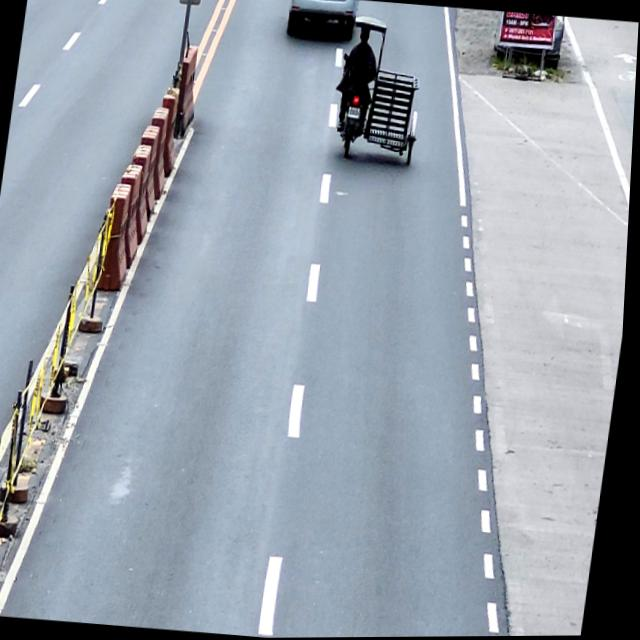Car: (285, 0, 359, 38)
License-Plate: (348, 107, 362, 119)
Tricycle: (332, 17, 433, 166)
